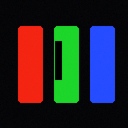4 line_v: (55, 41, 61, 79)
